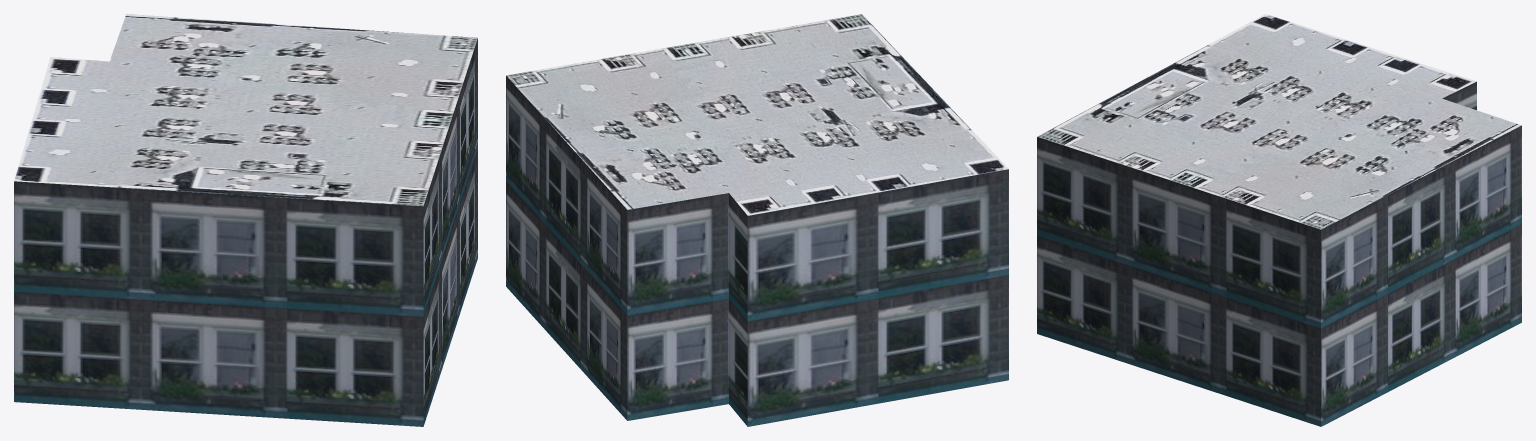
File: ResTex__298.fbx
The picture shows the model from 3 angles, left to right: view 1: azimuth 30°, elevation 25°; view 2: azimuth 150°, elevation 25°; view 3: azimuth 270°, elevation 25°; orthographic projection. The views are drawn at different scales.
Visible parts, largest first — view 1: CityEngineMaterial_11_m, CityEngineMaterial_8_m; view 2: CityEngineMaterial_11_m, CityEngineMaterial_8_m; view 3: CityEngineMaterial_11_m, CityEngineMaterial_8_m.
Boxes of the visible parts, bbox=[...] form: CityEngineMaterial_11_m: bbox=[14, 38, 477, 426]; CityEngineMaterial_8_m: bbox=[14, 14, 477, 206]; CityEngineMaterial_11_m: bbox=[506, 76, 1008, 426]; CityEngineMaterial_8_m: bbox=[506, 14, 1008, 215]; CityEngineMaterial_11_m: bbox=[1037, 81, 1521, 426]; CityEngineMaterial_8_m: bbox=[1037, 14, 1521, 229].
Size of the model in its own units: 14.08 by 6 by 13.36.
2 materials, 2 textured.
